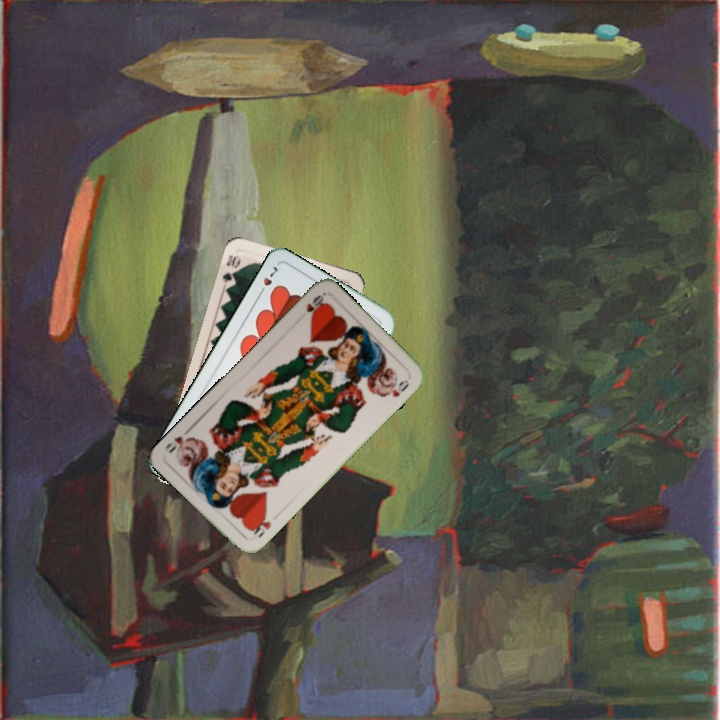G10: (218, 251, 243, 286)
H7: (254, 262, 280, 298)
HO: (246, 510, 274, 540), (302, 291, 327, 320)
